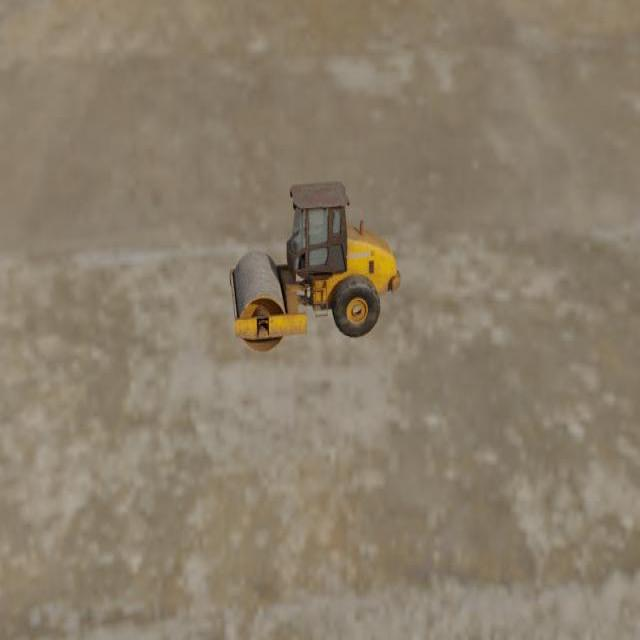Roller: (228, 180, 401, 353)
